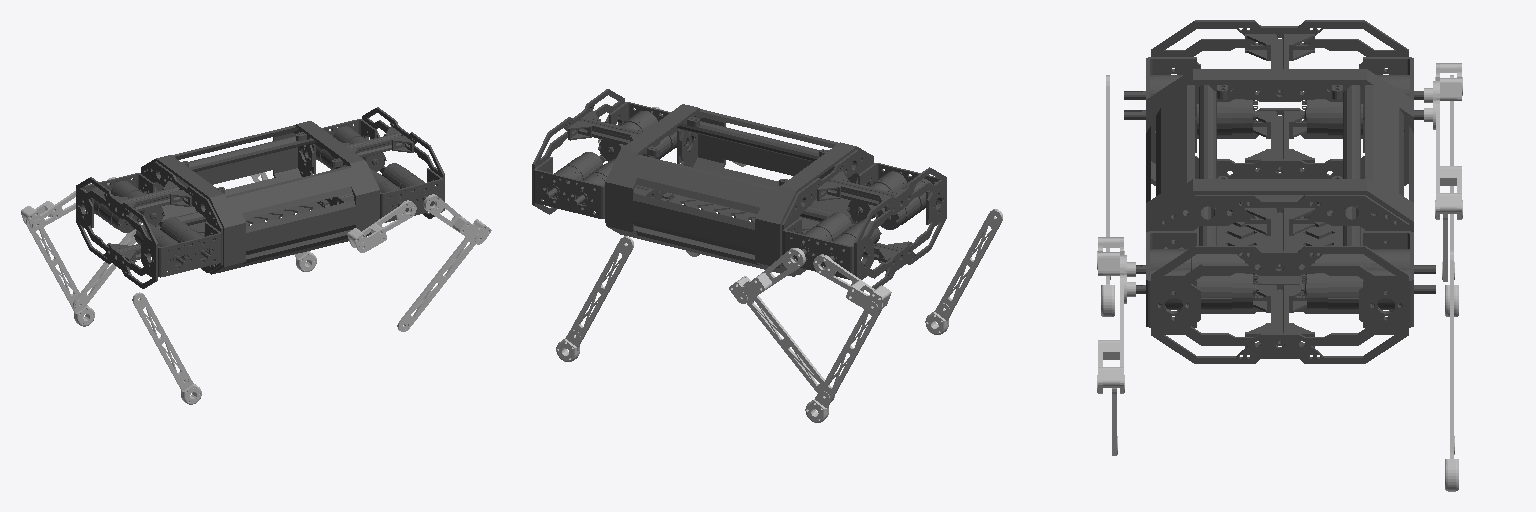
URDF robot description (Spot1504):
<?xml version="1.0" encoding="utf-8"?>
<!-- This URDF was automatically created by SolidWorks to URDF Exporter! Originally created by [author] ([email redacted]) 
     Commit Version: 1.6.0-4-g7f85cfe  Build Version: 1.6.7995.38578
     For more information, please see http://wiki.ros.org/sw_urdf_exporter -->
<robot
  name="Spot1504">
  <link
    name="BASE">
    <inertial>
      <origin
        xyz="0.0011944095368826 -3.51164099354762E-07 0.00317711957900974"
        rpy="0 0 0" />
      <mass
        value="7" />
      <inertia
        ixx="0.014239202621753"
        ixy="6.74615081577306E-11"
        ixz="2.55322930373711E-06"
        iyy="0.0122637890177231"
        iyz="-3.29110936316158E-07"
        izz="0.0222992982471124" />
    </inertial>
    <visual>
      <origin
        xyz="0 0 0"
        rpy="0 0 0" />
      <geometry>
        <mesh
          filename="package://Spot1504/meshes/BASE.STL" />
      </geometry>
      <material
        name="BODY">
        <color
          rgba="0.376 0.376 0.376 1" />
      </material>
    </visual>
    <collision>
      <origin
        xyz="0 0 0"
        rpy="0 0 0" />
      <geometry>
        <mesh
          filename="package://Spot1504/meshes/BASE.STL" />
      </geometry>
    </collision>
  </link>
  <link
    name="FR_upper_knee">
    <inertial>
      <origin
        xyz="0.050518454394026 -0.00478086324288868 -0.0434850436726017"
        rpy="0 0 0" />
      <mass
        value="0.2" />
      <inertia
        ixx="1.16540638853535E-05"
        ixy="4.89995587506689E-20"
        ixz="1.11058116991417E-05"
        iyy="2.74850714706815E-05"
        iyz="-4.45172679533679E-20"
        izz="1.65095752794789E-05" />
    </inertial>
    <visual>
      <origin
        xyz="0 0 0"
        rpy="0 0 0" />
      <geometry>
        <mesh
          filename="package://Spot1504/meshes/FR_upper_knee.STL" />
      </geometry>
      <material
        name="">
        <color
          rgba="0.752941176 0.752941176 0.752941176 1" />
      </material>
    </visual>
    <collision>
      <origin
        xyz="0 0 0"
        rpy="0 0 0" />
      <geometry>
        <mesh
          filename="package://Spot1504/meshes/FR_upper_knee.STL" />
      </geometry>
    </collision>
  </link>
  <joint
    name="motor_fr_upper_knee_joint"
    type="revolute">
    <origin
      xyz="0.24911 -0.1735 0.0074919"
      rpy="0 0 0" />
    <parent
      link="BASE" />
    <child
      link="FR_upper_knee" />
    <axis
      xyz="0 -1 0" />
    <limit
      lower="-1.57"
      upper="1.57"
      effort="20"
      velocity="100" />
  </joint>
  <link
    name="FR_lower_knee">
    <inertial>
      <origin
        xyz="-0.073022 0.0025629 -0.071618"
        rpy="0 0 0" />
      <mass
        value="0.2" />
      <inertia
        ixx="4.0431E-05"
        ixy="3.4783E-21"
        ixz="-3.9947E-05"
        iyy="8.2323E-05"
        iyz="-3.1857E-21"
        izz="4.1982E-05" />
    </inertial>
    <visual>
      <origin
        xyz="0 0 0"
        rpy="0 0 0" />
      <geometry>
        <mesh
          filename="package://Spot1504/meshes/FR_lower_knee.STL" />
      </geometry>
      <material
        name="">
        <color
          rgba="0.752941176 0.752941176 0.752941176 1" />
      </material>
    </visual>
    <collision>
      <origin
        xyz="0 0 0"
        rpy="0 0 0" />
      <geometry>
        <mesh
          filename="package://Spot1504/meshes/FR_lower_knee.STL" />
      </geometry>
    </collision>
  </link>
  <joint
    name="fr_lower_knee_joint"
    type="revolute">
    <origin
      xyz="0.080087 -0.008 -0.075406"
      rpy="0 0 0" />
    <parent
      link="FR_upper_knee" />
    <child
      link="FR_lower_knee" />
    <axis
      xyz="0 -1 0" />
    <limit
      lower="-1.57"
      upper="1.57"
      effort="20"
      velocity="100" />
  </joint>
  <link
    name="FR_upper_hip">
    <inertial>
      <origin
        xyz="-0.0636621897477582 -0.00478086324289151 -0.0197531985787918"
        rpy="0 0 0" />
      <mass
        value="0.2" />
      <inertia
        ixx="4.30727823440024E-06"
        ixy="8.39979053782784E-21"
        ixz="-5.80442871067772E-06"
        iyy="2.74850714706814E-05"
        iyz="-5.49959739681518E-21"
        izz="2.38563609304322E-05" />
    </inertial>
    <visual>
      <origin
        xyz="0 0 0"
        rpy="0 0 0" />
      <geometry>
        <mesh
          filename="package://Spot1504/meshes/FR_upper_hip.STL" />
      </geometry>
      <material
        name="">
        <color
          rgba="0.752941176 0.752941176 0.752941176 1" />
      </material>
    </visual>
    <collision>
      <origin
        xyz="0 0 0"
        rpy="0 0 0" />
      <geometry>
        <mesh
          filename="package://Spot1504/meshes/FR_upper_hip.STL" />
      </geometry>
    </collision>
  </link>
  <joint
    name="motor_fr_upper_hip_joint"
    type="revolute">
    <origin
      xyz="0.19911123518341 -0.173500351164098 0.00749192202401805"
      rpy="0 0 0" />
    <parent
      link="BASE" />
    <child
      link="FR_upper_hip" />
    <axis
      xyz="0 -1 0" />
    <limit
      lower="-1.57"
      upper="1.57"
      effort="20"
      velocity="100" />
  </joint>
  <link
    name="FR_lower_hip">
    <inertial>
      <origin
        xyz="0.068122 -0.0024607 -0.13369"
        rpy="0 0 0" />
      <mass
        value="0.2" />
      <inertia
        ixx="0.00018105"
        ixy="7.7634E-14"
        ixz="9.0902E-05"
        iyy="0.00022949"
        iyz="4.0144E-14"
        izz="4.8973E-05" />
    </inertial>
    <visual>
      <origin
        xyz="0 0 0"
        rpy="0 0 0" />
      <geometry>
        <mesh
          filename="package://Spot1504/meshes/FR_lower_hip.STL" />
      </geometry>
      <material
        name="hip">
        <color
          rgba="0.752941176 0.752941176 0.752941176 1" />
      </material>
    </visual>
    <collision>
      <origin
        xyz="0 0 0"
        rpy="0 0 0" />
      <geometry>
        <mesh
          filename="package://Spot1504/meshes/FR_lower_hip.STL" />
      </geometry>
    </collision>
  </link>
  <joint
    name="fr_lower_hip_joint"
    type="revolute">
    <origin
      xyz="-0.103501820756658 -0.010000000000002 -0.0372474576320085"
      rpy="0 0 0" />
    <parent
      link="FR_upper_hip" />
    <child
      link="FR_lower_hip" />
    <axis
      xyz="0 -1 0" />
    <limit
      lower="-1.57"
      upper="1.57"
      effort="20"
      velocity="100" />
  </joint>
  <link
    name="BR_upper_knee">
    <inertial>
      <origin
        xyz="0.0505164736369484 -0.00478086324289045 -0.04348734469744"
        rpy="0 0 0" />
      <mass
        value="0.2" />
      <inertia
        ixx="1.16550756150641E-05"
        ixy="2.21099500908441E-20"
        ixz="1.11060328172725E-05"
        iyy="2.74850714706815E-05"
        iyz="-1.87794137823906E-20"
        izz="1.65085635497684E-05" />
    </inertial>
    <visual>
      <origin
        xyz="0 0 0"
        rpy="0 0 0" />
      <geometry>
        <mesh
          filename="package://Spot1504/meshes/BR_upper_knee.STL" />
      </geometry>
      <material
        name="">
        <color
          rgba="0.752941176 0.752941176 0.752941176 1" />
      </material>
    </visual>
    <collision>
      <origin
        xyz="0 0 0"
        rpy="0 0 0" />
      <geometry>
        <mesh
          filename="package://Spot1504/meshes/BR_upper_knee.STL" />
      </geometry>
    </collision>
  </link>
  <joint
    name="motor_br_upper_knee_joint"
    type="revolute">
    <origin
      xyz="-0.196888764816585 -0.173500351164099 0.00749192202402094"
      rpy="0 0 0" />
    <parent
      link="BASE" />
    <child
      link="BR_upper_knee" />
    <axis
      xyz="0 -1 0" />
    <limit
      lower="-1.57"
      upper="1.57"
      effort="20"
      velocity="100" />
  </joint>
  <link
    name="BR_lower_knee">
    <inertial>
      <origin
        xyz="-0.0730201759131731 0.00256289190345438 -0.0716197354881452"
        rpy="0 0 0" />
      <mass
        value="0.2" />
      <inertia
        ixx="4.04329569008625E-05"
        ixy="-1.07000031676982E-21"
        ixz="-3.99471670446998E-05"
        iyy="8.23233038356787E-05"
        iyz="-7.97144530293169E-22"
        izz="4.19802164931309E-05" />
    </inertial>
    <visual>
      <origin
        xyz="0 0 0"
        rpy="0 0 0" />
      <geometry>
        <mesh
          filename="package://Spot1504/meshes/BR_lower_knee.STL" />
      </geometry>
      <material
        name="">
        <color
          rgba="0.752941176 0.752941176 0.752941176 1" />
      </material>
    </visual>
    <collision>
      <origin
        xyz="0 0 0"
        rpy="0 0 0" />
      <geometry>
        <mesh
          filename="package://Spot1504/meshes/BR_lower_knee.STL" />
      </geometry>
    </collision>
  </link>
  <joint
    name="br_lower_knee_joint"
    type="revolute">
    <origin
      xyz="0.0800840565833414 -0.00800000000000095 -0.0754091763723471"
      rpy="0 0 0" />
    <parent
      link="BR_upper_knee" />
    <child
      link="BR_lower_knee" />
    <axis
      xyz="0 -1 0" />
    <limit
      lower="-1.57"
      upper="1.57"
      effort="20"
      velocity="100" />
  </joint>
  <link
    name="BR_upper_hip">
    <inertial>
      <origin
        xyz="-0.0636609182771305 -0.00478086324289029 -0.0197572959101793"
        rpy="0 0 0" />
      <mass
        value="0.2" />
      <inertia
        ixx="4.30802547489621E-06"
        ixy="-3.93048566818105E-22"
        ixz="-5.80568686420662E-06"
        iyy="2.74850714706816E-05"
        iyz="-3.82489004597207E-22"
        izz="2.38556136899364E-05" />
    </inertial>
    <visual>
      <origin
        xyz="0 0 0"
        rpy="0 0 0" />
      <geometry>
        <mesh
          filename="package://Spot1504/meshes/BR_upper_hip.STL" />
      </geometry>
      <material
        name="">
        <color
          rgba="0.752941176 0.752941176 0.752941176 1" />
      </material>
    </visual>
    <collision>
      <origin
        xyz="0 0 0"
        rpy="0 0 0" />
      <geometry>
        <mesh
          filename="package://Spot1504/meshes/BR_upper_hip.STL" />
      </geometry>
    </collision>
  </link>
  <joint
    name="motor_br_upper_hip_joint"
    type="revolute">
    <origin
      xyz="-0.246888764816864 -0.173500351164099 0.00749192202338655"
      rpy="0 0 0" />
    <parent
      link="BASE" />
    <child
      link="BR_upper_hip" />
    <axis
      xyz="0 -1 0" />
    <limit
      lower="-1.57"
      upper="1.57"
      effort="20"
      velocity="100" />
  </joint>
  <link
    name="BR_lower_hip">
    <inertial>
      <origin
        xyz="0.0681204718274993 -0.00246067050997739 -0.133691285042387"
        rpy="0 0 0" />
      <mass
        value="0.2" />
      <inertia
        ixx="0.000181052841057738"
        ixy="7.76337076345283E-14"
        ixz="9.09007298789023E-05"
        iyy="0.000229493455638044"
        iyz="4.01441860388721E-14"
        izz="4.89708342337639E-05" />
    </inertial>
    <visual>
      <origin
        xyz="0 0 0"
        rpy="0 0 0" />
      <geometry>
        <mesh
          filename="package://Spot1504/meshes/BR_lower_hip.STL" />
      </geometry>
      <material
        name="hip">
        <color
          rgba="0.752941176 0.752941176 0.752941176 1" />
      </material>
    </visual>
    <collision>
      <origin
        xyz="0 0 0"
        rpy="0 0 0" />
      <geometry>
        <mesh
          filename="package://Spot1504/meshes/BR_lower_hip.STL" />
      </geometry>
    </collision>
  </link>
  <joint
    name="br_lower_hip_joint"
    type="revolute">
    <origin
      xyz="-0.103499423252635 -0.0100000000000007 -0.0372541190514647"
      rpy="0 0 0" />
    <parent
      link="BR_upper_hip" />
    <child
      link="BR_lower_hip" />
    <axis
      xyz="0 -1 0" />
    <limit
      lower="-1.57"
      upper="1.57"
      effort="20"
      velocity="100" />
  </joint>
  <link
    name="FL_upper_knee">
    <inertial>
      <origin
        xyz="0.0505184543940325 0.0047808632428905 -0.0434850436726002"
        rpy="0 0 0" />
      <mass
        value="0.2" />
      <inertia
        ixx="1.16540638853539E-05"
        ixy="-4.3163647891274E-20"
        ixz="1.11058116991419E-05"
        iyy="2.74850714706816E-05"
        iyz="3.9967258801287E-20"
        izz="1.65095752794787E-05" />
    </inertial>
    <visual>
      <origin
        xyz="0 0 0"
        rpy="0 0 0" />
      <geometry>
        <mesh
          filename="package://Spot1504/meshes/FL_upper_knee.STL" />
      </geometry>
      <material
        name="">
        <color
          rgba="0.752941176 0.752941176 0.752941176 1" />
      </material>
    </visual>
    <collision>
      <origin
        xyz="0 0 0"
        rpy="0 0 0" />
      <geometry>
        <mesh
          filename="package://Spot1504/meshes/FL_upper_knee.STL" />
      </geometry>
    </collision>
  </link>
  <joint
    name="motor_fl_upper_knee_joint"
    type="revolute">
    <origin
      xyz="0.249111235183415 0.173499648835901 0.0074919220240201"
      rpy="0 0 0" />
    <parent
      link="BASE" />
    <child
      link="FL_upper_knee" />
    <axis
      xyz="0 -1 0" />
    <limit
      lower="-1.57"
      upper="1.57"
      effort="20"
      velocity="100" />
  </joint>
  <link
    name="FL_lower_knee">
    <inertial>
      <origin
        xyz="-0.0730221776675222 -0.00256289190345093 -0.0716176945345108"
        rpy="0 0 0" />
      <mass
        value="0.2" />
      <inertia
        ixx="4.0430723842824E-05"
        ixy="6.92975957590118E-20"
        ixz="-3.99471237361355E-05"
        iyy="8.23233038356784E-05"
        iyz="6.57450101834489E-20"
        izz="4.19824495511691E-05" />
    </inertial>
    <visual>
      <origin
        xyz="0 0 0"
        rpy="0 0 0" />
      <geometry>
        <mesh
          filename="package://Spot1504/meshes/FL_lower_knee.STL" />
      </geometry>
      <material
        name="">
        <color
          rgba="0.752941176 0.752941176 0.752941176 1" />
      </material>
    </visual>
    <collision>
      <origin
        xyz="0 0 0"
        rpy="0 0 0" />
      <geometry>
        <mesh
          filename="package://Spot1504/meshes/FL_lower_knee.STL" />
      </geometry>
    </collision>
  </link>
  <joint
    name="fl_lower_knee_joint"
    type="revolute">
    <origin
      xyz="0.0800874913210537 0.00799999999999891 -0.0754055285368097"
      rpy="0 0 0" />
    <parent
      link="FL_upper_knee" />
    <child
      link="FL_lower_knee" />
    <axis
      xyz="0 -1 0" />
    <limit
      lower="-1.57"
      upper="1.57"
      effort="20"
      velocity="100" />
  </joint>
  <link
    name="FL_upper_hip">
    <inertial>
      <origin
        xyz="-0.0636621897477289 0.00478086324289043 -0.0197531985788137"
        rpy="0 0 0" />
      <mass
        value="0.2" />
      <inertia
        ixx="4.30727823440718E-06"
        ixy="3.95473126563017E-20"
        ixz="-5.80442871068941E-06"
        iyy="2.74850714706815E-05"
        iyz="1.5421608516601E-20"
        izz="2.38563609304253E-05" />
    </inertial>
    <visual>
      <origin
        xyz="0 0 0"
        rpy="0 0 0" />
      <geometry>
        <mesh
          filename="package://Spot1504/meshes/FL_upper_hip.STL" />
      </geometry>
      <material
        name="">
        <color
          rgba="0.752941176 0.752941176 0.752941176 1" />
      </material>
    </visual>
    <collision>
      <origin
        xyz="0 0 0"
        rpy="0 0 0" />
      <geometry>
        <mesh
          filename="package://Spot1504/meshes/FL_upper_hip.STL" />
      </geometry>
    </collision>
  </link>
  <joint
    name="motor_fl_upper_hip_joint"
    type="revolute">
    <origin
      xyz="0.199111235183205 0.173499648835901 0.00749192202384069"
      rpy="0 0 0" />
    <parent
      link="BASE" />
    <child
      link="FL_upper_hip" />
    <axis
      xyz="0 -1 0" />
    <limit
      lower="-1.57"
      upper="1.57"
      effort="20"
      velocity="100" />
  </joint>
  <link
    name="FL_lower_hip">
    <inertial>
      <origin
        xyz="0.0679802383452205 0.00253644265020351 -0.133412507188092"
        rpy="0 0 0" />
      <mass
        value="0.2" />
      <inertia
        ixx="0.000183153689709637"
        ixy="-2.84356229661283E-08"
        ixz="9.19770254838388E-05"
        iyy="0.000232135119675297"
        iyz="5.58116886828029E-08"
        izz="4.9513855955958E-05" />
    </inertial>
    <visual>
      <origin
        xyz="0 0 0"
        rpy="0 0 0" />
      <geometry>
        <mesh
          filename="package://Spot1504/meshes/FL_lower_hip.STL" />
      </geometry>
      <material
        name="hip">
        <color
          rgba="0.752941176 0.752941176 0.752941176 1" />
      </material>
    </visual>
    <collision>
      <origin
        xyz="0 0 0"
        rpy="0 0 0" />
      <geometry>
        <mesh
          filename="package://Spot1504/meshes/FL_lower_hip.STL" />
      </geometry>
    </collision>
  </link>
  <joint
    name="fl_lower_hip_joint"
    type="revolute">
    <origin
      xyz="-0.103501820756454 0.0100000000000031 -0.0372474576318325"
      rpy="0 0 0" />
    <parent
      link="FL_upper_hip" />
    <child
      link="FL_lower_hip" />
    <axis
      xyz="0 -1 0" />
    <limit
      lower="-1.57"
      upper="1.57"
      effort="20"
      velocity="100" />
  </joint>
  <link
    name="BL_upper_knee">
    <inertial>
      <origin
        xyz="0.0505164736369487 0.00478086324288923 -0.0434873446974395"
        rpy="0 0 0" />
      <mass
        value="0.2" />
      <inertia
        ixx="1.1655075615064E-05"
        ixy="-4.65445928344213E-20"
        ixz="1.11060328172725E-05"
        iyy="2.74850714706816E-05"
        iyz="4.10262877471503E-20"
        izz="1.65085635497685E-05" />
    </inertial>
    <visual>
      <origin
        xyz="0 0 0"
        rpy="0 0 0" />
      <geometry>
        <mesh
          filename="package://Spot1504/meshes/BL_upper_knee.STL" />
      </geometry>
      <material
        name="">
        <color
          rgba="0.752941176 0.752941176 0.752941176 1" />
      </material>
    </visual>
    <collision>
      <origin
        xyz="0 0 0"
        rpy="0 0 0" />
      <geometry>
        <mesh
          filename="package://Spot1504/meshes/BL_upper_knee.STL" />
      </geometry>
    </collision>
  </link>
  <joint
    name="motor_bl_upper_knee_joint"
    type="revolute">
    <origin
      xyz="-0.196888764816585 0.173499648835901 0.00749192202401999"
      rpy="0 0 0" />
    <parent
      link="BASE" />
    <child
      link="BL_upper_knee" />
    <axis
      xyz="0 -1 0" />
    <limit
      lower="-1.57"
      upper="1.57"
      effort="20"
      velocity="100" />
  </joint>
  <link
    name="BL_lower_knee">
    <inertial>
      <origin
        xyz="-0.073020175913174 -0.0025628919034543 -0.0716197354881437"
        rpy="0 0 0" />
      <mass
        value="0.2" />
      <inertia
        ixx="4.04329569008616E-05"
        ixy="1.07276544012049E-19"
        ixz="-3.99471670446997E-05"
        iyy="8.23233038356787E-05"
        iyz="1.08464813554832E-19"
        izz="4.19802164931317E-05" />
    </inertial>
    <visual>
      <origin
        xyz="0 0 0"
        rpy="0 0 0" />
      <geometry>
        <mesh
          filename="package://Spot1504/meshes/BL_lower_knee.STL" />
      </geometry>
      <material
        name="">
        <color
          rgba="0.752941176 0.752941176 0.752941176 1" />
      </material>
    </visual>
    <collision>
      <origin
        xyz="0 0 0"
        rpy="0 0 0" />
      <geometry>
        <mesh
          filename="package://Spot1504/meshes/BL_lower_knee.STL" />
      </geometry>
    </collision>
  </link>
  <joint
    name="bl_lower_knee_joint"
    type="revolute">
    <origin
      xyz="0.0800840565833425 0.00799999999999989 -0.0754091763723482"
      rpy="0 0 0" />
    <parent
      link="BL_upper_knee" />
    <child
      link="BL_lower_knee" />
    <axis
      xyz="0 -1 0" />
    <limit
      lower="-1.57"
      upper="1.57"
      effort="20"
      velocity="100" />
  </joint>
  <link
    name="BL_upper_hip">
    <inertial>
      <origin
        xyz="-0.0636609182774059 0.00478086324289044 -0.0197572959108056"
        rpy="0 0 0" />
      <mass
        value="0.2" />
      <inertia
        ixx="4.30802547489616E-06"
        ixy="4.80091461918602E-20"
        ixz="-5.80568686420653E-06"
        iyy="2.74850714706816E-05"
        iyz="1.32078164434944E-20"
        izz="2.38556136899364E-05" />
    </inertial>
    <visual>
      <origin
        xyz="0 0 0"
        rpy="0 0 0" />
      <geometry>
        <mesh
          filename="package://Spot1504/meshes/BL_upper_hip.STL" />
      </geometry>
      <material
        name="">
        <color
          rgba="0.752941176 0.752941176 0.752941176 1" />
      </material>
    </visual>
    <collision>
      <origin
        xyz="0 0 0"
        rpy="0 0 0" />
      <geometry>
        <mesh
          filename="package://Spot1504/meshes/BL_upper_hip.STL" />
      </geometry>
    </collision>
  </link>
  <joint
    name="motor_bl_upper_hip_joint"
    type="revolute">
    <origin
      xyz="-0.246888764816589 0.173499648835901 0.00749192202401183"
      rpy="0 0 0" />
    <parent
      link="BASE" />
    <child
      link="BL_upper_hip" />
    <axis
      xyz="0 -1 0" />
    <limit
      lower="-1.57"
      upper="1.57"
      effort="20"
      velocity="100" />
  </joint>
  <link
    name="BL_lower_hip">
    <inertial>
      <origin
        xyz="0.0679788023958934 0.00253644265017949 -0.133413238865497"
        rpy="0 0 0" />
      <mass
        value="0.2" />
      <inertia
        ixx="0.000183155669628298"
        ixy="-2.84350222375477E-08"
        ixz="9.19755870704172E-05"
        iyy="0.000232135119675377"
        iyz="5.58119947260923E-08"
        izz="4.95118760373857E-05" />
    </inertial>
    <visual>
      <origin
        xyz="0 0 0"
        rpy="0 0 0" />
      <geometry>
        <mesh
          filename="package://Spot1504/meshes/BL_lower_hip.STL" />
      </geometry>
      <material
        name="hip">
        <color
          rgba="0.752941176 0.752941176 0.752941176 1" />
      </material>
    </visual>
    <collision>
      <origin
        xyz="0 0 0"
        rpy="0 0 0" />
      <geometry>
        <mesh
          filename="package://Spot1504/meshes/BL_lower_hip.STL" />
      </geometry>
    </collision>
  </link>
  <joint
    name="bl_lower_hip_joint"
    type="revolute">
    <origin
      xyz="-0.1035 0.01 -0.037254"
      rpy="0 0 0" />
    <parent
      link="BL_upper_hip" />
    <child
      link="BL_lower_hip" />
    <axis
      xyz="0 -1 0" />
    <limit
      lower="-1.57"
      upper="1.57"
      effort="20"
      velocity="100" />
  </joint>
</robot>

--- What the picture shows (computed from the rendered views, not written in the file) ---
Views: 3 orthographic renders of the robot side by side, from view 1: azimuth 30°, elevation 25°; view 2: azimuth 150°, elevation 25°; view 3: azimuth 270°, elevation 25°.
Model Spot1504 with 17 links and 16 joints (16 revolute), rooted at BASE, posed all joints at 0.
Visible links, largest first — view 1: BASE, BR_lower_hip, FR_lower_knee, BL_lower_hip, FR_upper_hip, FR_upper_knee, BL_upper_hip, BL_lower_knee; view 2: BASE, BR_lower_hip, FL_lower_hip, BL_lower_hip, BL_upper_hip, BL_lower_knee, BL_upper_knee; view 3: BASE, FR_upper_knee, BL_upper_knee, FL_lower_hip, FR_upper_hip, BR_lower_hip, BL_upper_hip, BL_lower_hip.
Link boxes in pixels (x1,y1,x2,y2): BASE: [76, 107, 444, 288]; BR_lower_hip: [132, 292, 201, 404]; FR_lower_knee: [397, 237, 479, 331]; BL_lower_hip: [26, 219, 94, 326]; FR_upper_hip: [347, 200, 416, 252]; FR_upper_knee: [423, 194, 491, 244]; BL_upper_hip: [21, 183, 90, 230]; BL_lower_knee: [73, 222, 141, 310]; BASE: [532, 89, 946, 288]; BR_lower_hip: [925, 209, 1002, 334]; FL_lower_hip: [556, 236, 633, 361]; BL_lower_hip: [805, 303, 882, 422]; BL_upper_hip: [813, 254, 891, 313]; BL_lower_knee: [742, 296, 834, 400]; BL_upper_knee: [729, 248, 805, 303]; BASE: [1124, 20, 1435, 363]; FR_upper_knee: [1097, 275, 1135, 393]; BL_upper_knee: [1424, 100, 1462, 219]; FL_lower_hip: [1445, 250, 1458, 491]; FR_upper_hip: [1097, 237, 1135, 276]; BR_lower_hip: [1101, 75, 1114, 316]; BL_upper_hip: [1424, 63, 1462, 102]; BL_lower_hip: [1445, 75, 1458, 316].
Size in the robot's own frame: 0.7206 by 0.395 by 0.3369 metres.
10 mesh visuals loaded from 17 distinct referenced files (10 binary STL); not drawn: 7 (reference not matched to a file when rendering).
